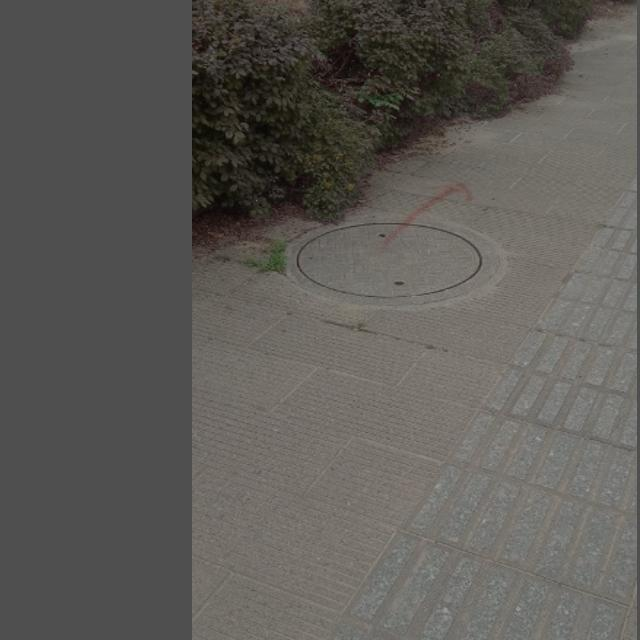good: (287, 214, 500, 300)
